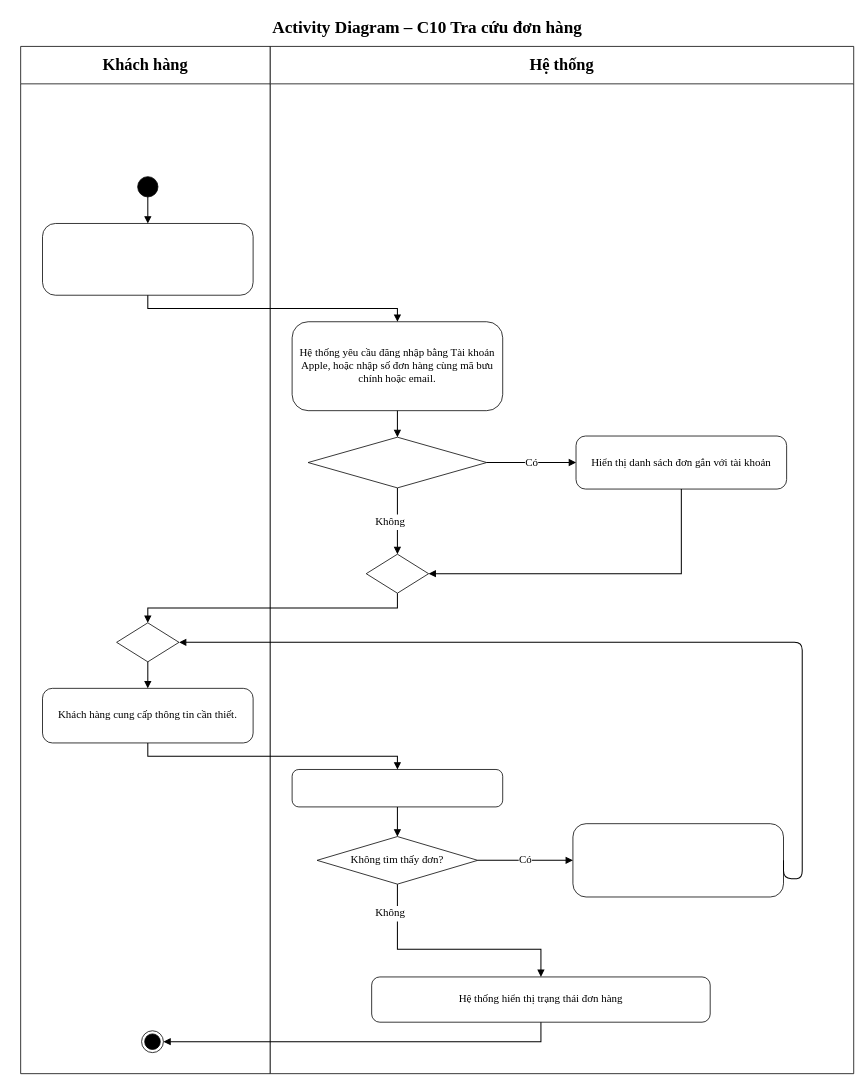
This 867x1087 diagram has some shape labels left out. Each missing label, with the centre of its shape:
Hệ thống xác định đơn hàng.: the point at 397,788
Khách hàng mở trang Trạng Thái Đơn Hàng (liên kết trong chân trang Apple Store).: the point at 147,259
Khách hàng đã đăng nhập?: the point at 397,462
Thông báo và yêu cầu kiểm tra lại thông tin: the point at 678,860
